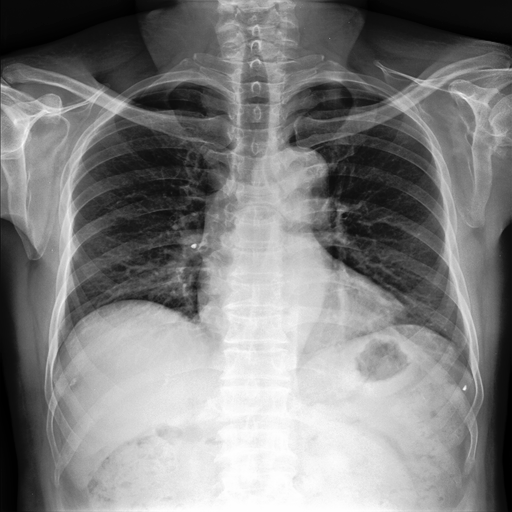Consolidation: (271, 148, 330, 190)
Nodule/Mass: (195, 278, 411, 339)
